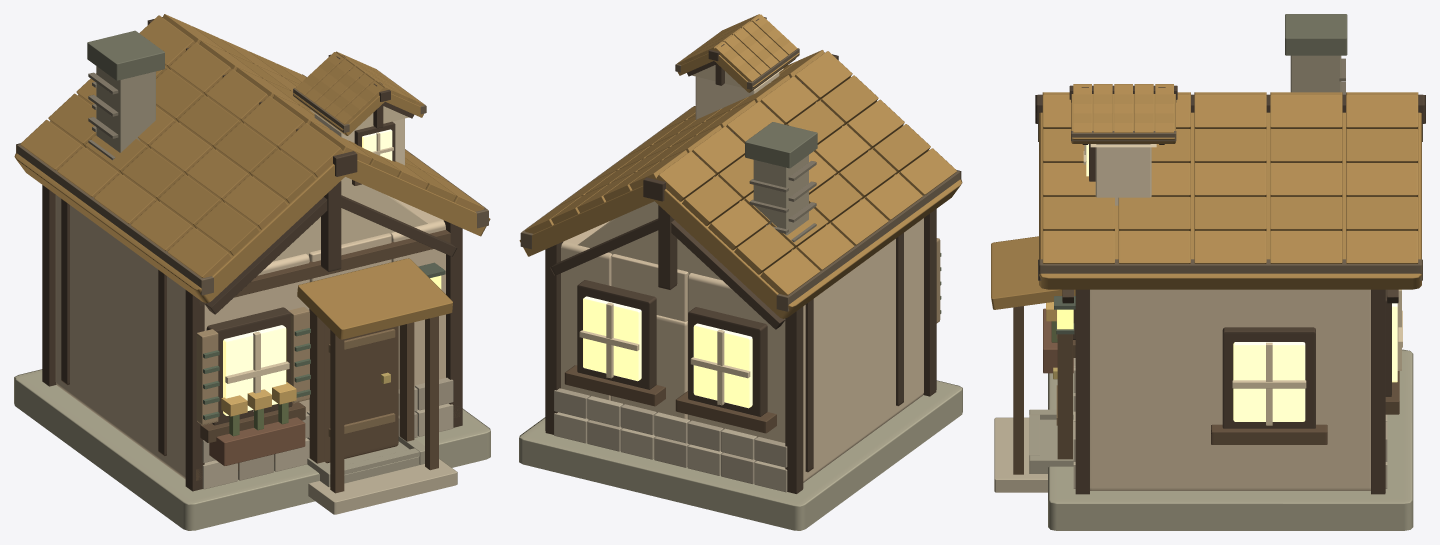
The model's file is house-3.glb.
3 renders of one model, left to right at view 1: azimuth 30°, elevation 25°; view 2: azimuth 150°, elevation 25°; view 3: azimuth 270°, elevation 25°, orthographic. The views are drawn at different scales.
Parts seen in each view (by area): view 1: house-3-0, door-hinge; view 2: house-3-0; view 3: house-3-0.
Boxes of the visible parts, <box> form: house-3-0: <box>14,14,490,530</box>; door-hinge: <box>324,324,398,463</box>; house-3-0: <box>519,14,962,530</box>; house-3-0: <box>991,14,1425,530</box>.
Bounding box in the file's own units: 1.88 × 2.26 × 2.24.
